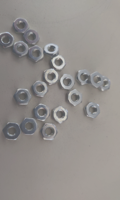nut: (3, 122, 21, 141), (31, 80, 49, 98), (21, 118, 38, 135), (41, 123, 58, 140), (14, 88, 31, 105), (43, 68, 60, 85), (53, 106, 69, 124), (57, 75, 76, 90), (84, 102, 101, 118), (67, 89, 83, 106), (28, 46, 45, 62), (34, 105, 50, 121), (13, 41, 29, 57), (77, 70, 92, 87), (13, 18, 30, 33), (90, 71, 104, 89), (0, 32, 15, 48), (25, 29, 40, 45), (50, 56, 66, 70), (45, 43, 60, 57), (101, 75, 111, 92)
